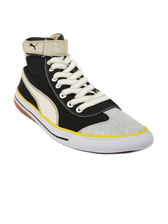shoes: (8, 36, 155, 154)
